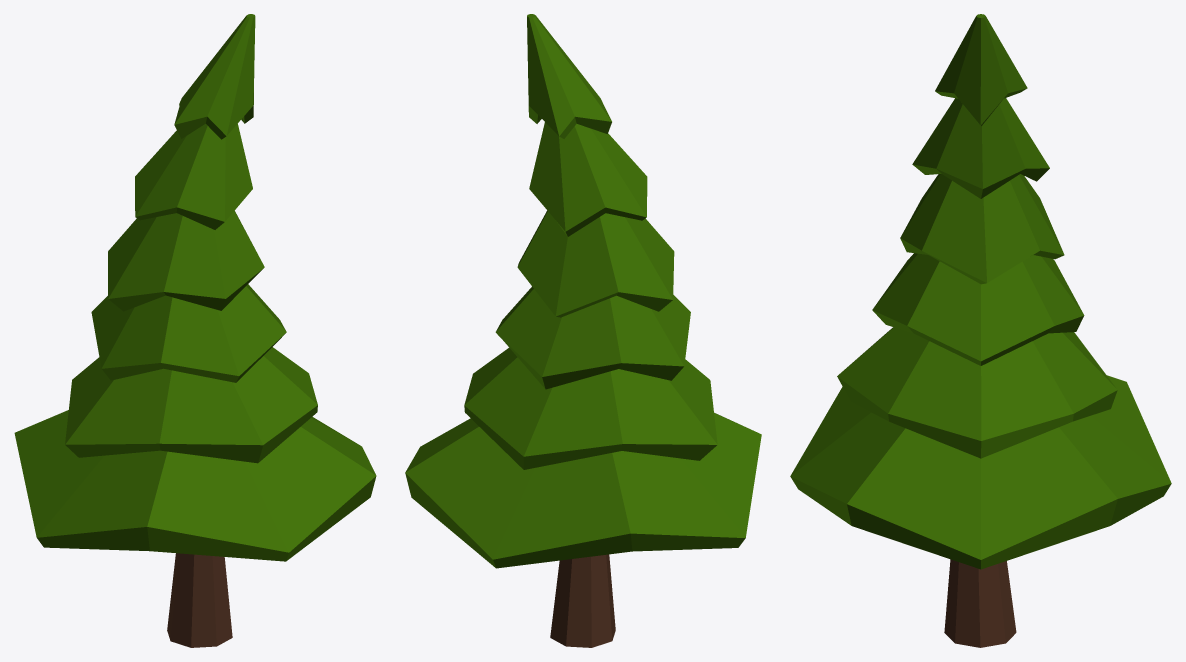
The model's file is Tree_Pine_Curve.fbx.
3 renders of one model, left to right at view 1: azimuth 30°, elevation 25°; view 2: azimuth 150°, elevation 25°; view 3: azimuth 270°, elevation 25°, orthographic. The views are drawn at different scales.
Visible parts, largest first — view 1: Tree Pine Curve; view 2: Tree Pine Curve; view 3: Tree Pine Curve.
Part boxes in pixels (x1,y1,x2,y2): Tree Pine Curve: (14,14,376,647); Tree Pine Curve: (405,14,761,647); Tree Pine Curve: (790,14,1171,647).
Bounding box in the file's own units: 910 × 953 × 1694.
